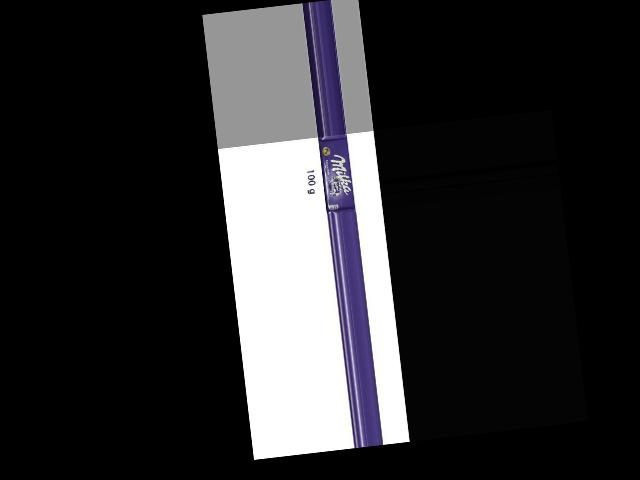chocolate: (312, 136, 356, 216)
